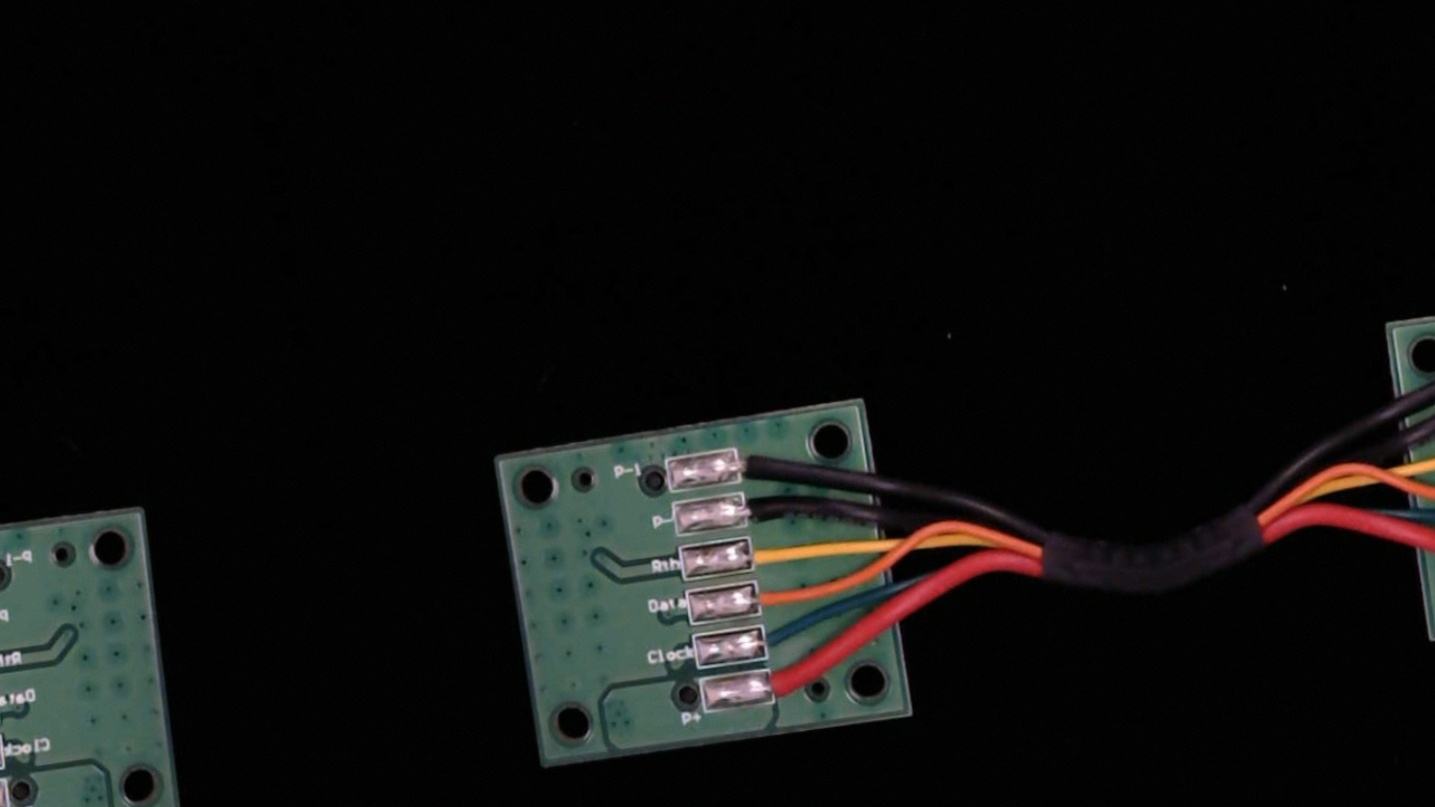Black: (725, 483, 813, 533)
Black1: (717, 438, 798, 487)
Green: (740, 612, 824, 662)
Orange: (735, 569, 821, 617)
Red: (752, 658, 837, 708)
Yellow: (729, 524, 817, 575)
